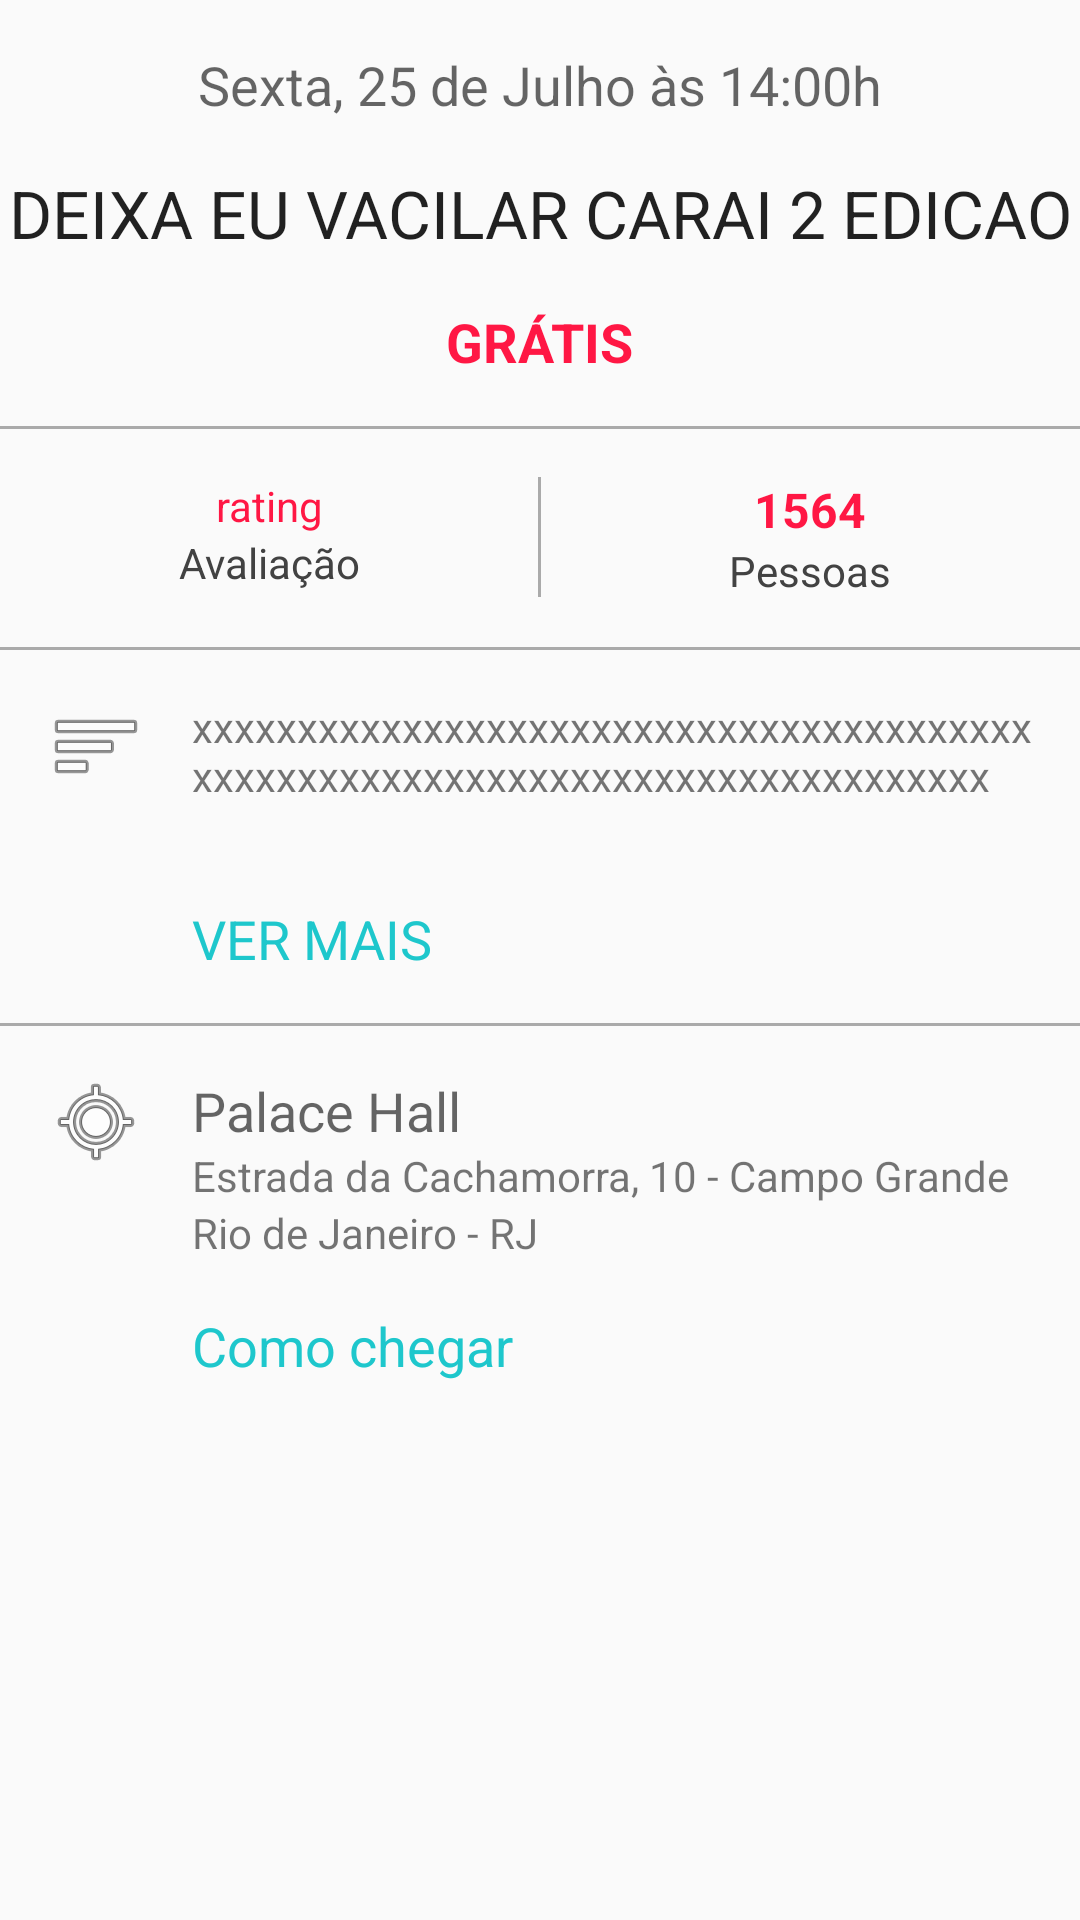

Named icons in this screenshot (1080*1920) and their centers, [x,y]:
mylocation: [96,1122]
sort by size: [96,746]
